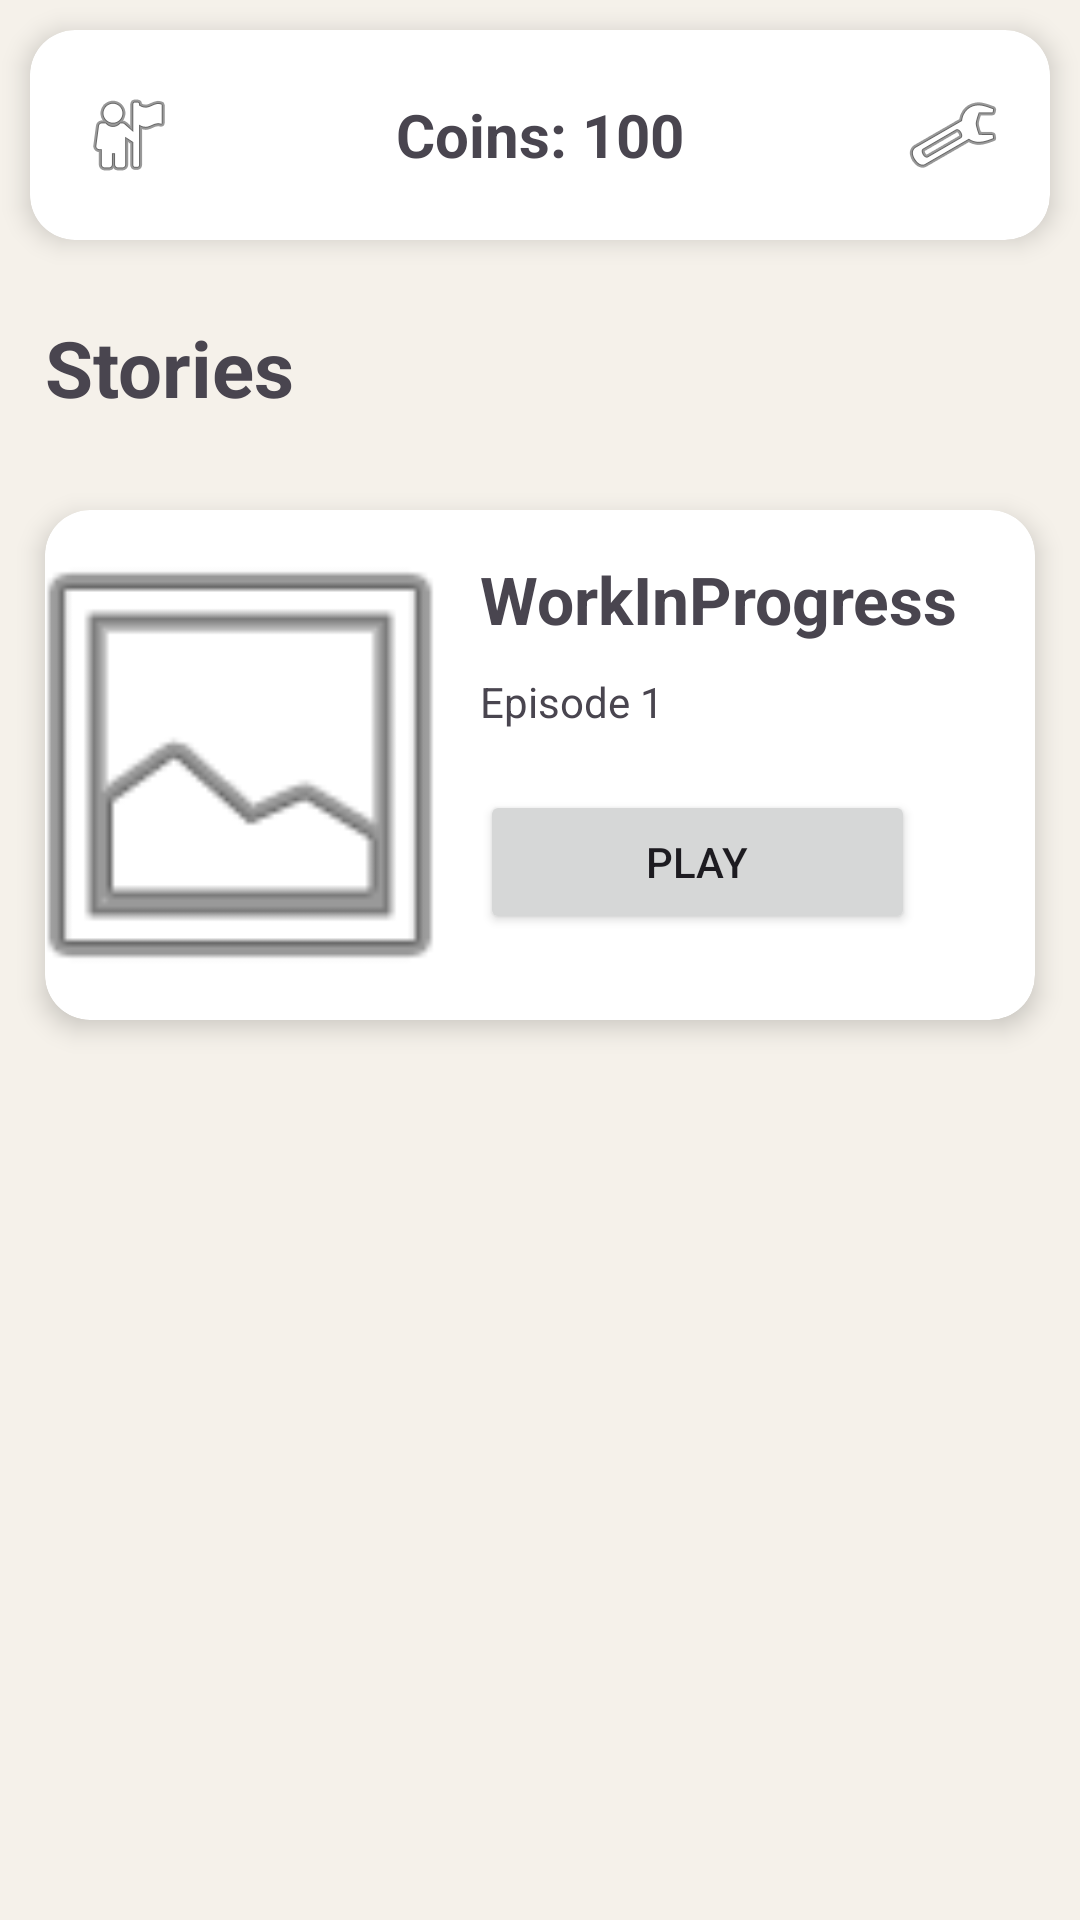

Point at icon controls on the screen. Image size 1080 x 1920, points as (x,y).
myplaces: (129,135)
preferences: (953,135)
